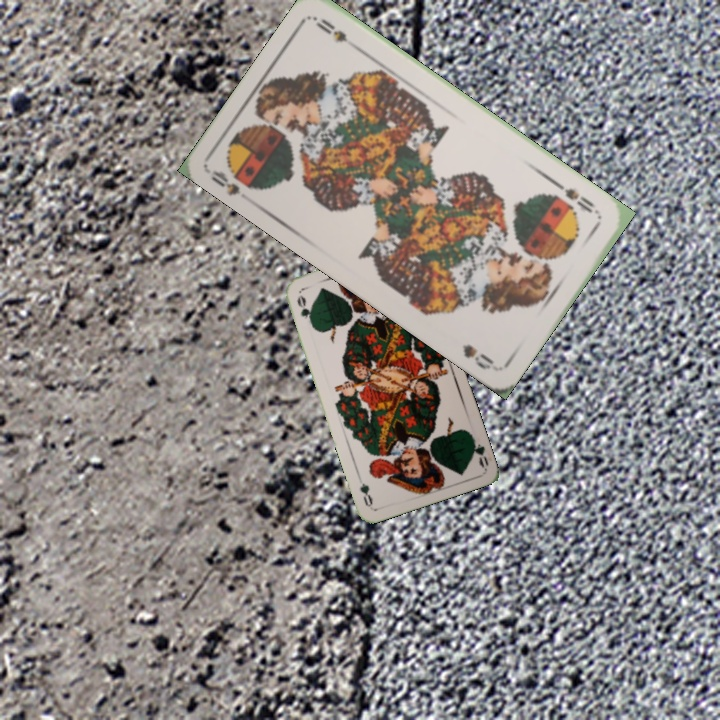GO: (293, 291, 315, 328), (467, 431, 487, 470)
SO: (551, 178, 603, 220), (207, 165, 265, 198)
